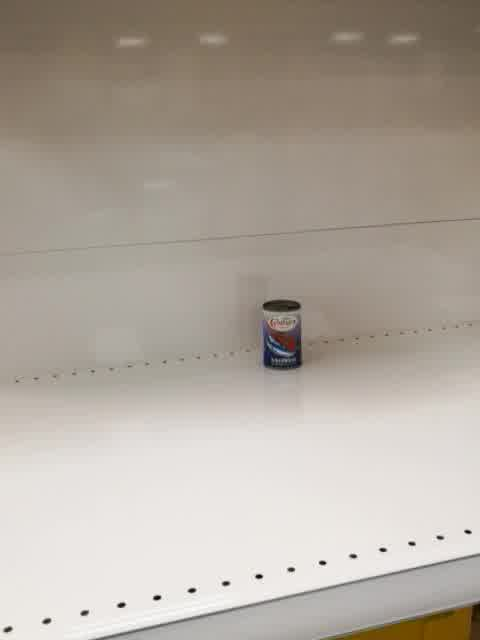sardine: (260, 299, 303, 371)
